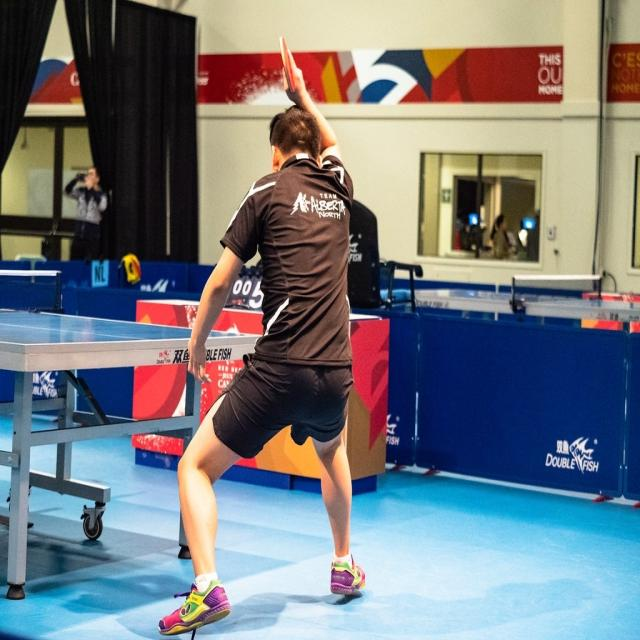TT Net: (511, 272, 603, 308), (0, 266, 63, 312)
TT Racket: (277, 36, 302, 97)
TT Table: (0, 306, 257, 367), (399, 278, 640, 328)
